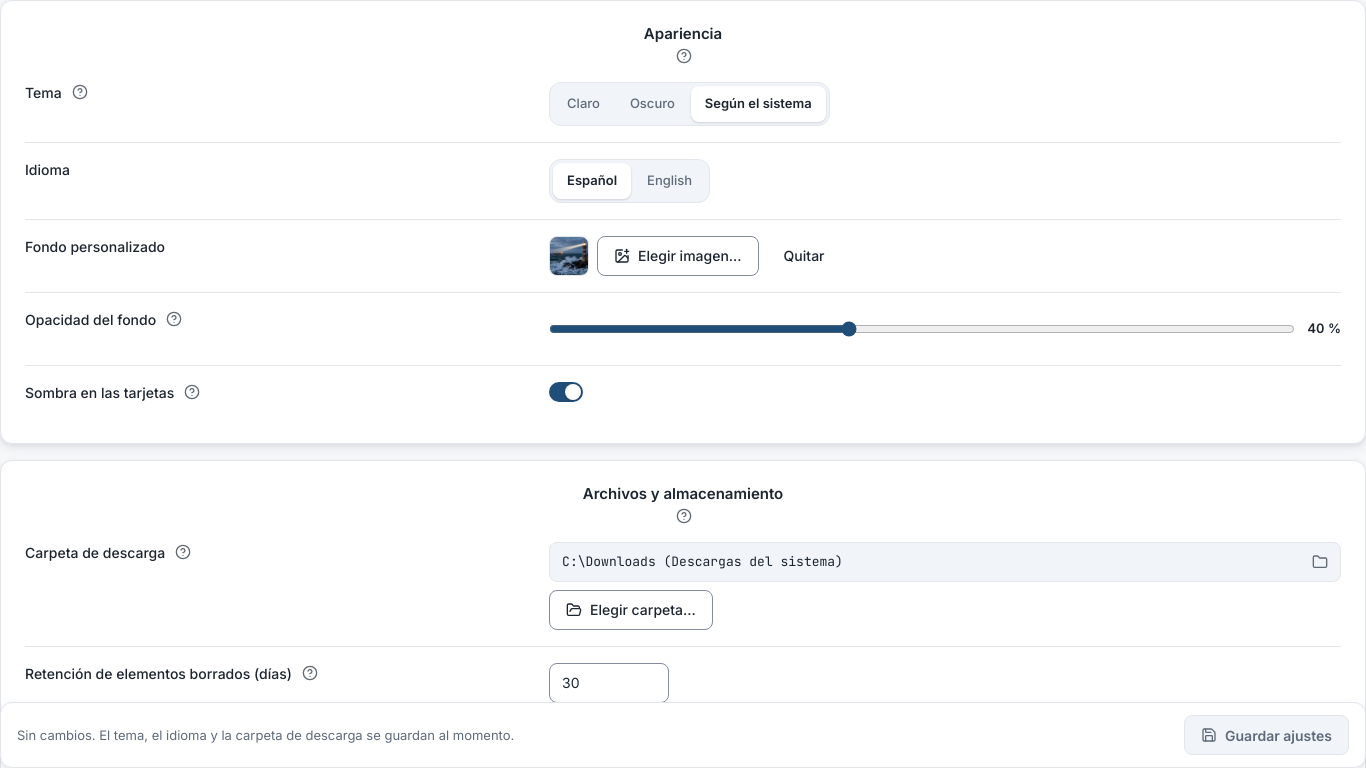
it: GeneralTab › moving the opacity shows it at once, and only «Guardar ajustes» keeps it
Set the slider labelled "Opacidad del fondo" to "75" at (1104, 329), box 549,321 -> 1295,337
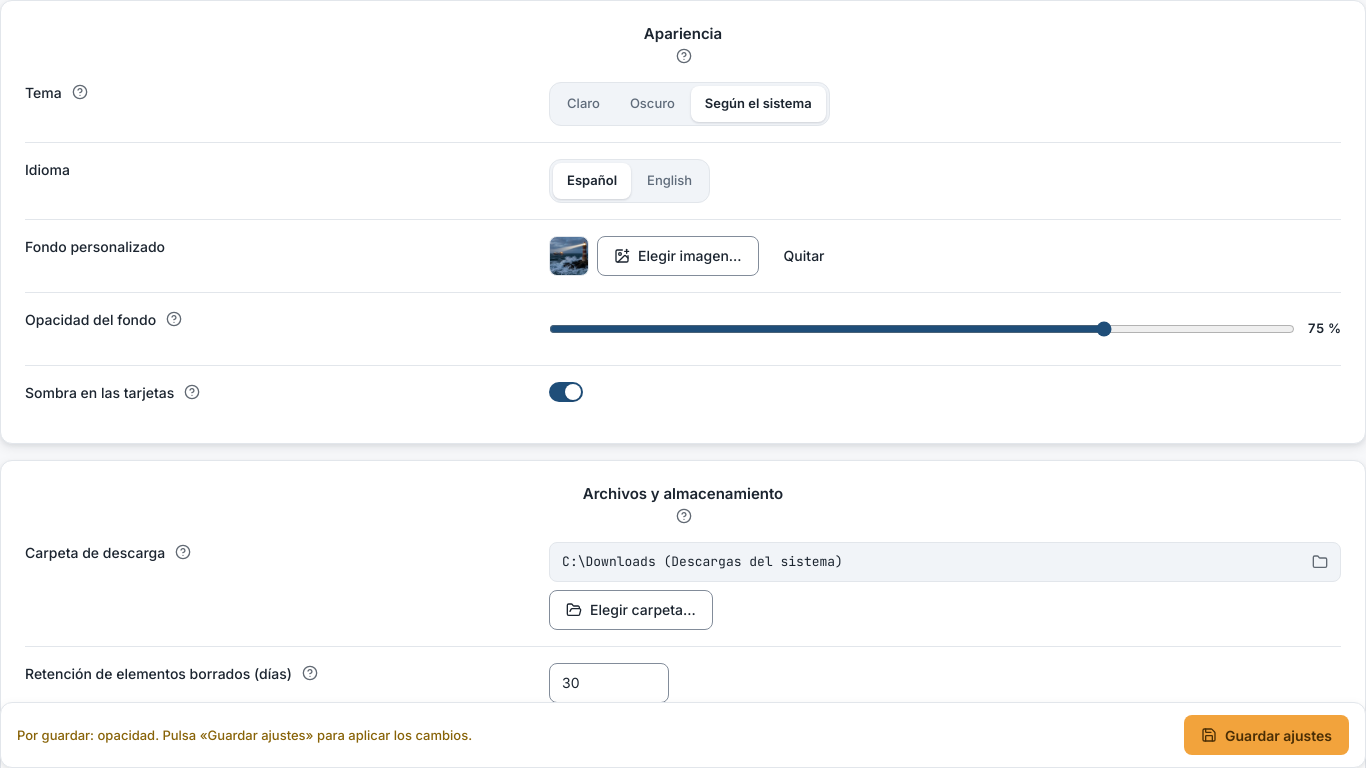
Result: the message with class "adm-savebar__state" reads "Por guardar: opacidad. Pulsa «Guardar ajustes» para aplicar los cambios." at 17,726 -> 472,742
Click the button "Guardar ajustes" at (1266, 735), box 1184,715 -> 1349,755
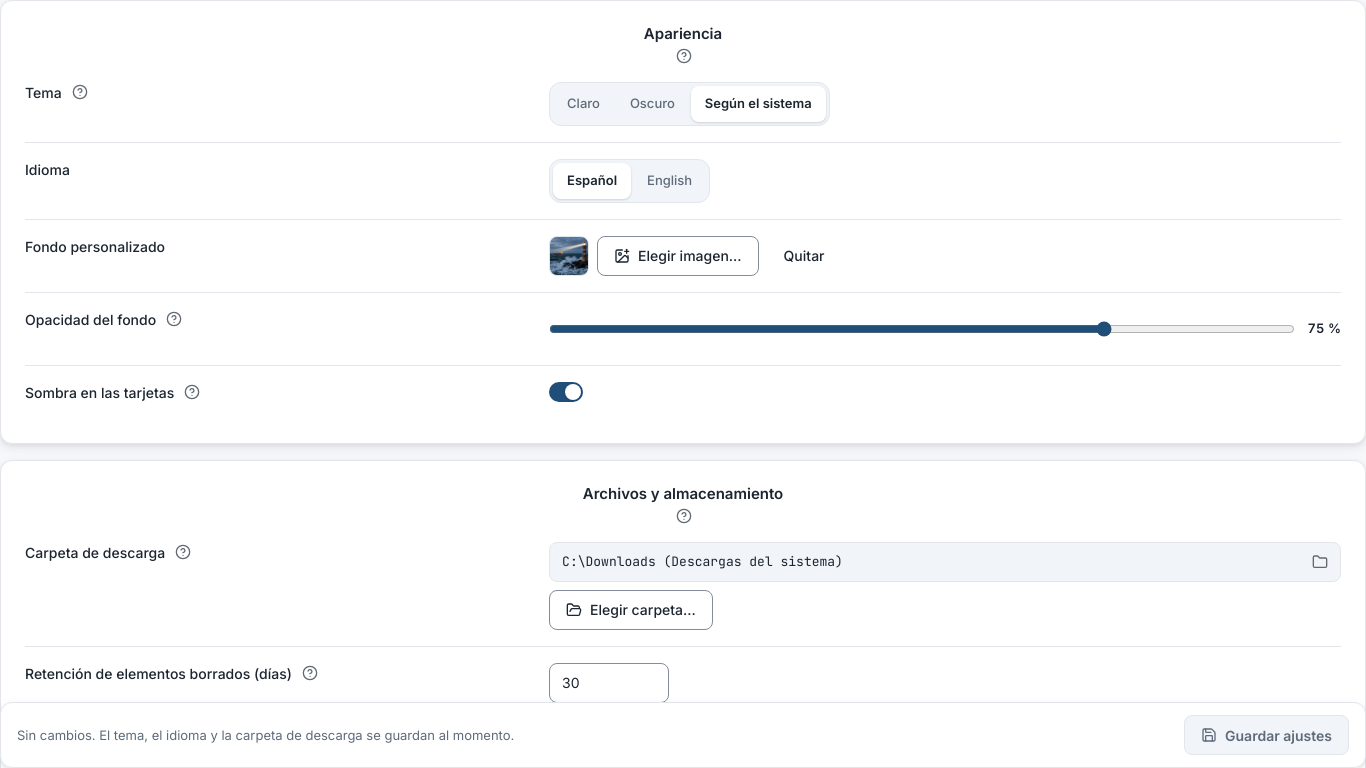
Result: the message with class "adm-savebar__state" shows "Sin cambios" at 17,726 -> 514,742
